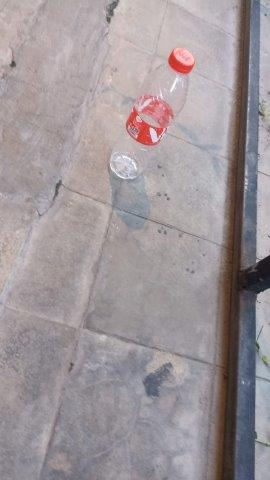botolplastik: (106, 49, 196, 180)
